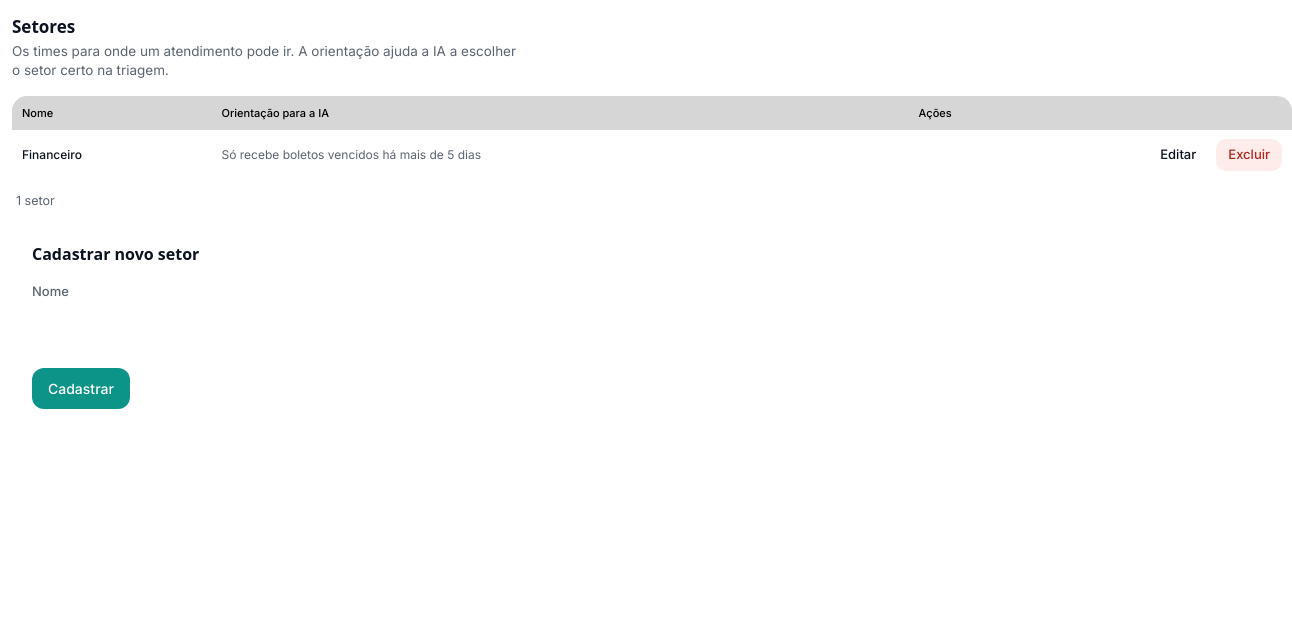
Scenario: SectorsAdminTab › loads the saved aiHint into the textarea when editing
Click the button "Editar". click: {"x": 1178, "y": 155}
box: [1148,139,1208,170]
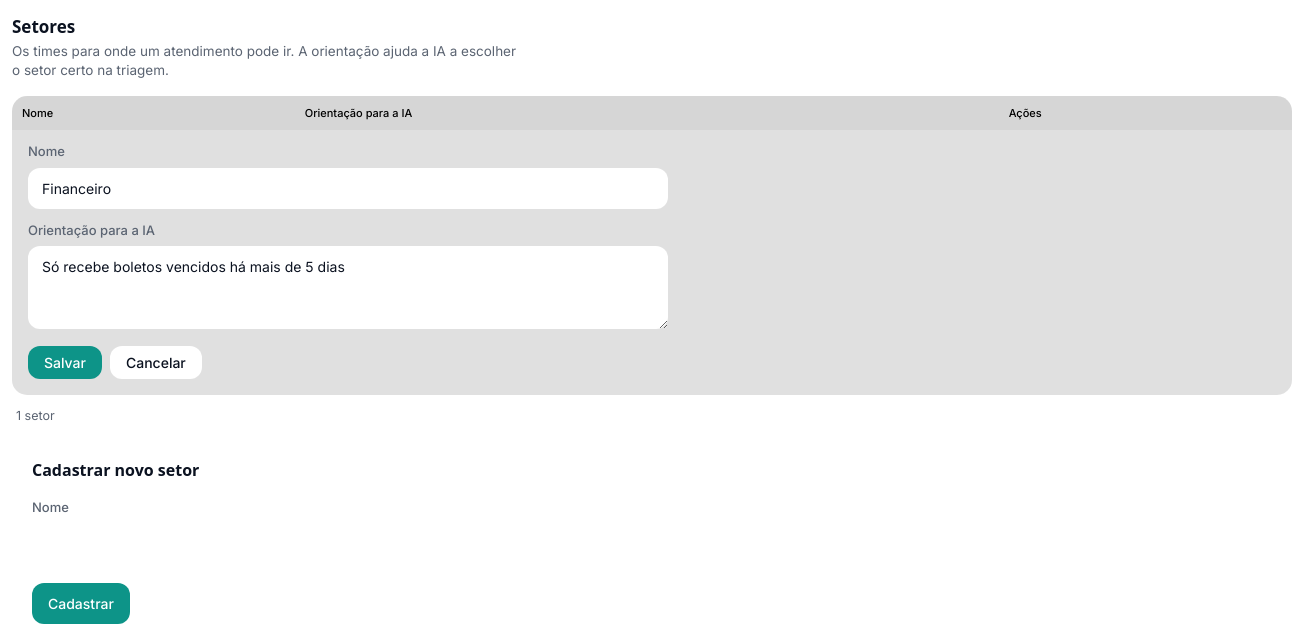
Now the text box showing "Só recebe boletos vencidos há mais de 5 dias" is shown, box [28,246,668,329]
